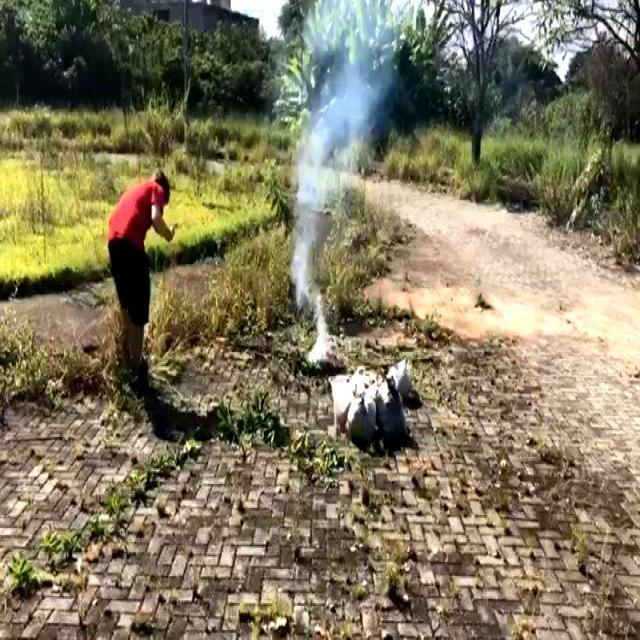Smoke: (284, 28, 370, 364)
